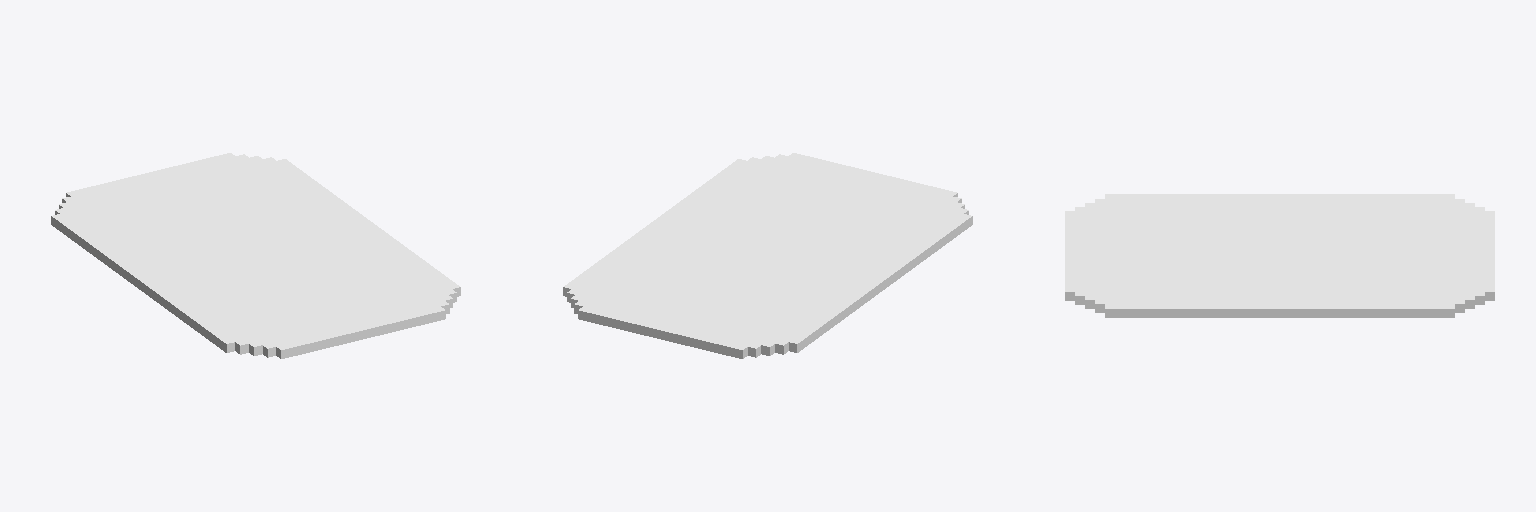
File: Decor-37.obj
The picture shows the model from 3 angles: view 1: azimuth 30°, elevation 25°; view 2: azimuth 150°, elevation 25°; view 3: azimuth 270°, elevation 25°; orthographic projection.
Parts seen in each view (by area): view 1: object 1; view 2: object 1; view 3: object 1.
Part boxes in pixels (bbox=[...]): object 1: bbox=[51, 153, 460, 358]; object 1: bbox=[563, 153, 972, 358]; object 1: bbox=[1065, 194, 1494, 317].
Bounding box in the file's own units: 2.7 × 0.1 × 4.3.